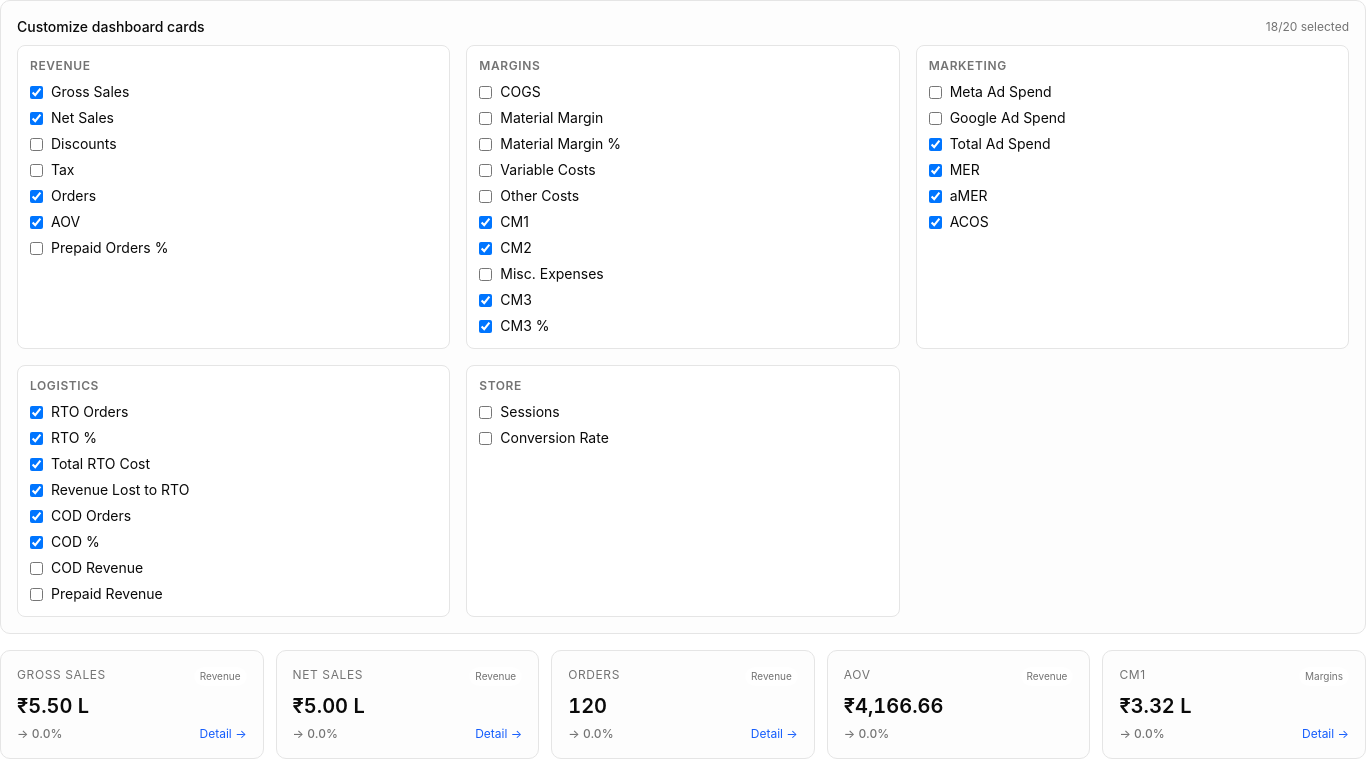
Test case: DashboardMetricsGrid — customize panel › unchecking a metric removes its tile from the grid
Check: the list item with test id "metric-card-grossSales" is shown, box [0,650,264,759]
// Uncheck grossSales
Click the checkbox with test id "customize-check-grossSales": (36, 92) [30,86,43,98]
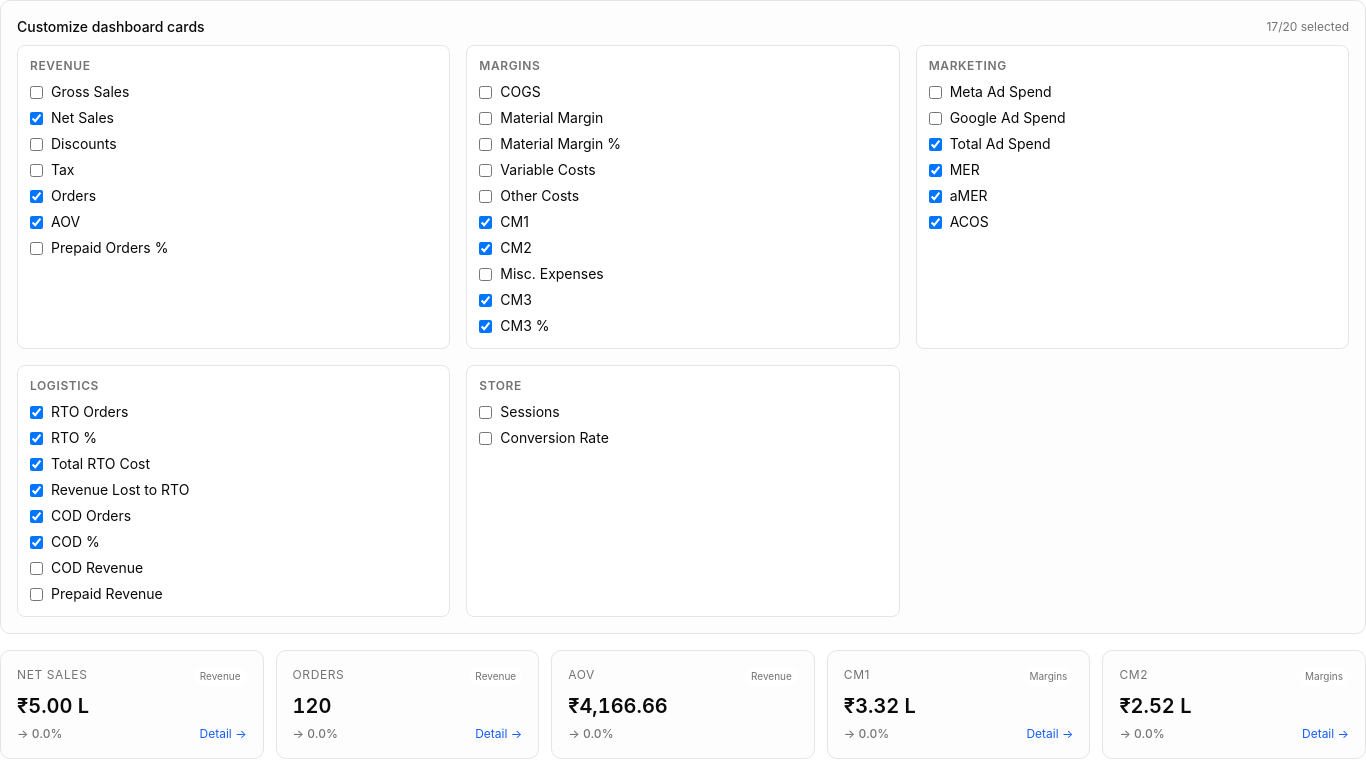
Check: the list item with test id "metric-card-grossSales" is gone
